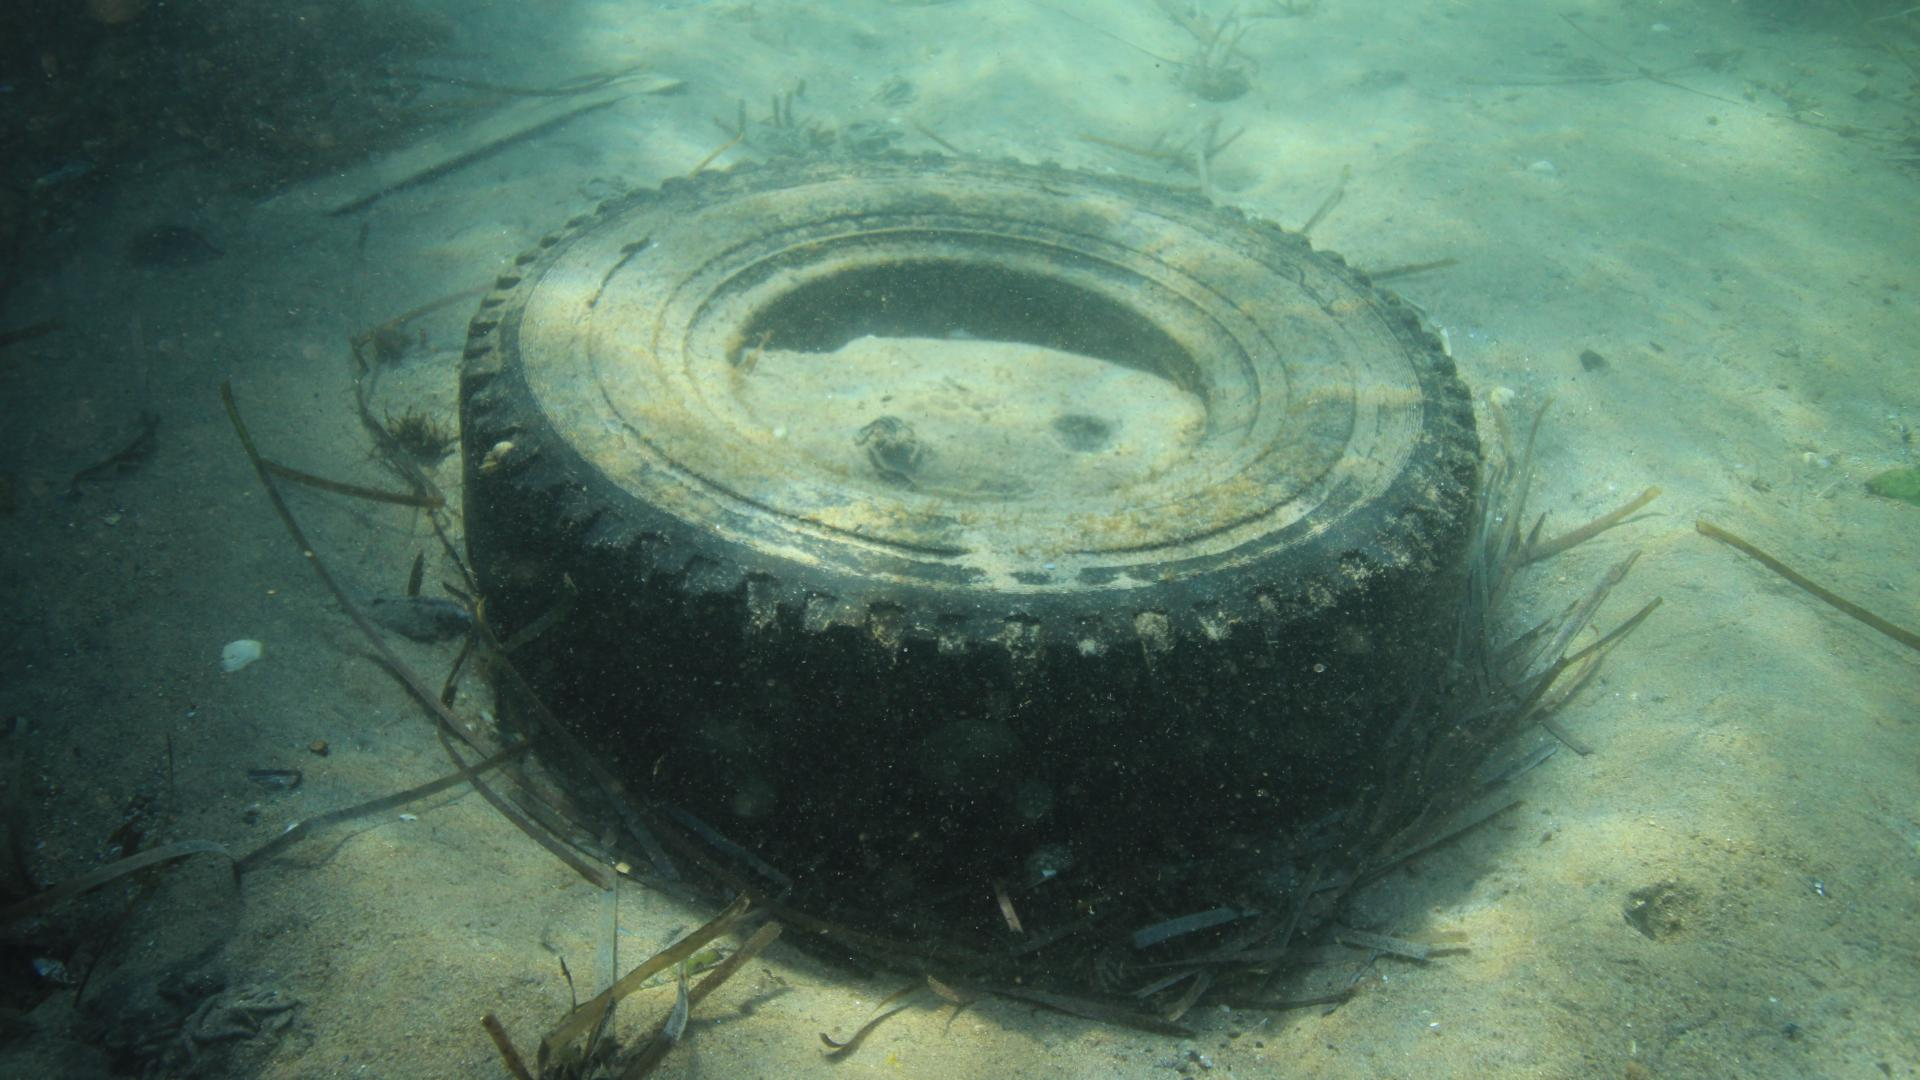tire: (458, 146, 1478, 913)
